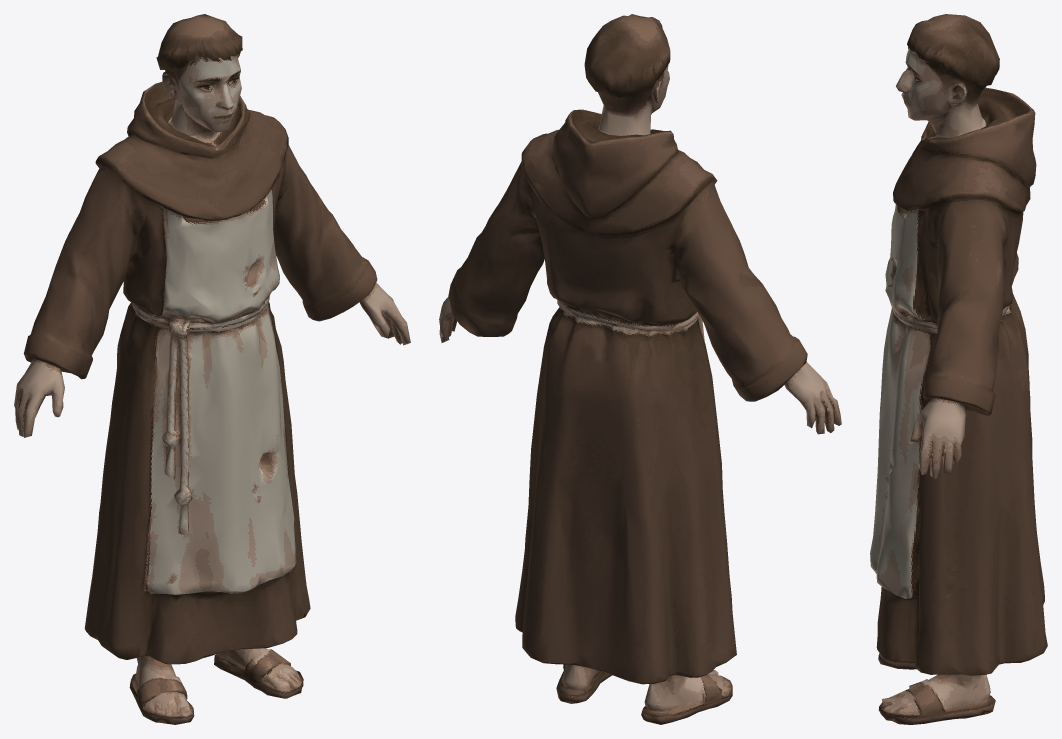
File: benito.glb
The picture shows the model from 3 angles, left to right: view 1: azimuth 30°, elevation 25°; view 2: azimuth 150°, elevation 25°; view 3: azimuth 270°, elevation 25°; orthographic projection.
Visible parts, largest first — view 1: tripo_node_94d36a2b-4146-48b5-9373-0a17bfaf72a8; view 2: tripo_node_94d36a2b-4146-48b5-9373-0a17bfaf72a8; view 3: tripo_node_94d36a2b-4146-48b5-9373-0a17bfaf72a8.
Part boxes in pixels (x1=…): tripo_node_94d36a2b-4146-48b5-9373-0a17bfaf72a8: x1=14, y1=14, x2=410, y2=724; tripo_node_94d36a2b-4146-48b5-9373-0a17bfaf72a8: x1=439, y1=14, x2=841, y2=724; tripo_node_94d36a2b-4146-48b5-9373-0a17bfaf72a8: x1=870, y1=14, x2=1047, y2=724.
Bounding box in the file's own units: 0.6061 × 1 × 0.2403.
1 material, 1 textured.
